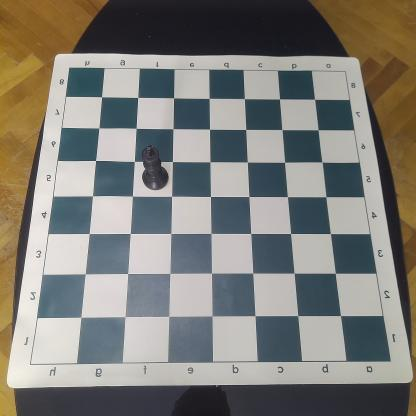black-king: (141, 144, 169, 192)
